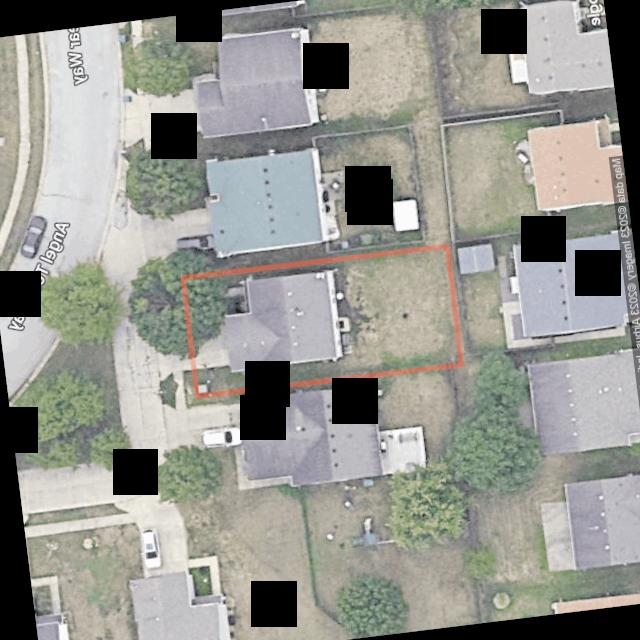Driveway: (188, 286, 248, 368)
Extra Driveway: (179, 359, 189, 371)
Extra Lawn: (168, 275, 189, 359), (156, 372, 176, 408), (156, 374, 176, 408), (182, 371, 193, 397)
Extra Sidewalk: (147, 280, 185, 409)
House: (222, 270, 349, 371)
Other: (198, 384, 206, 392)
